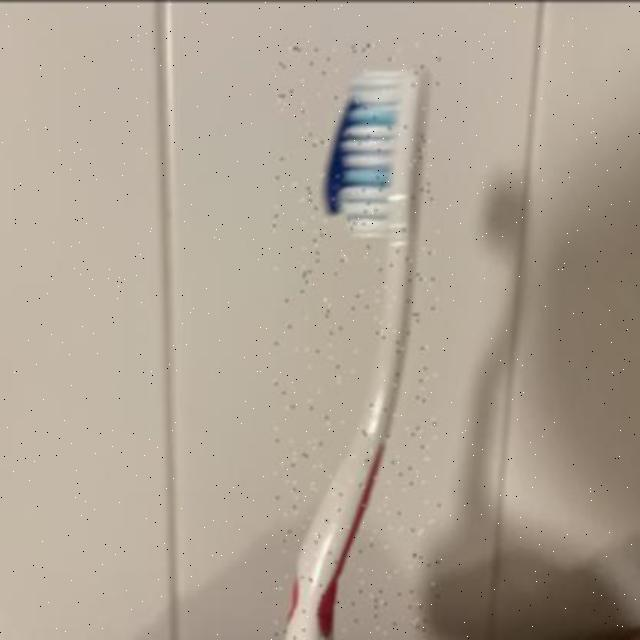toothbrush: (275, 42, 441, 640)
